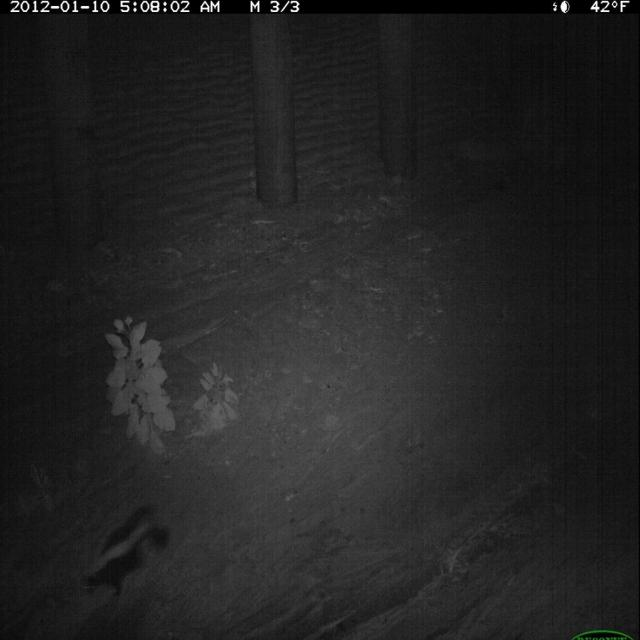skunk: (74, 498, 172, 610)
